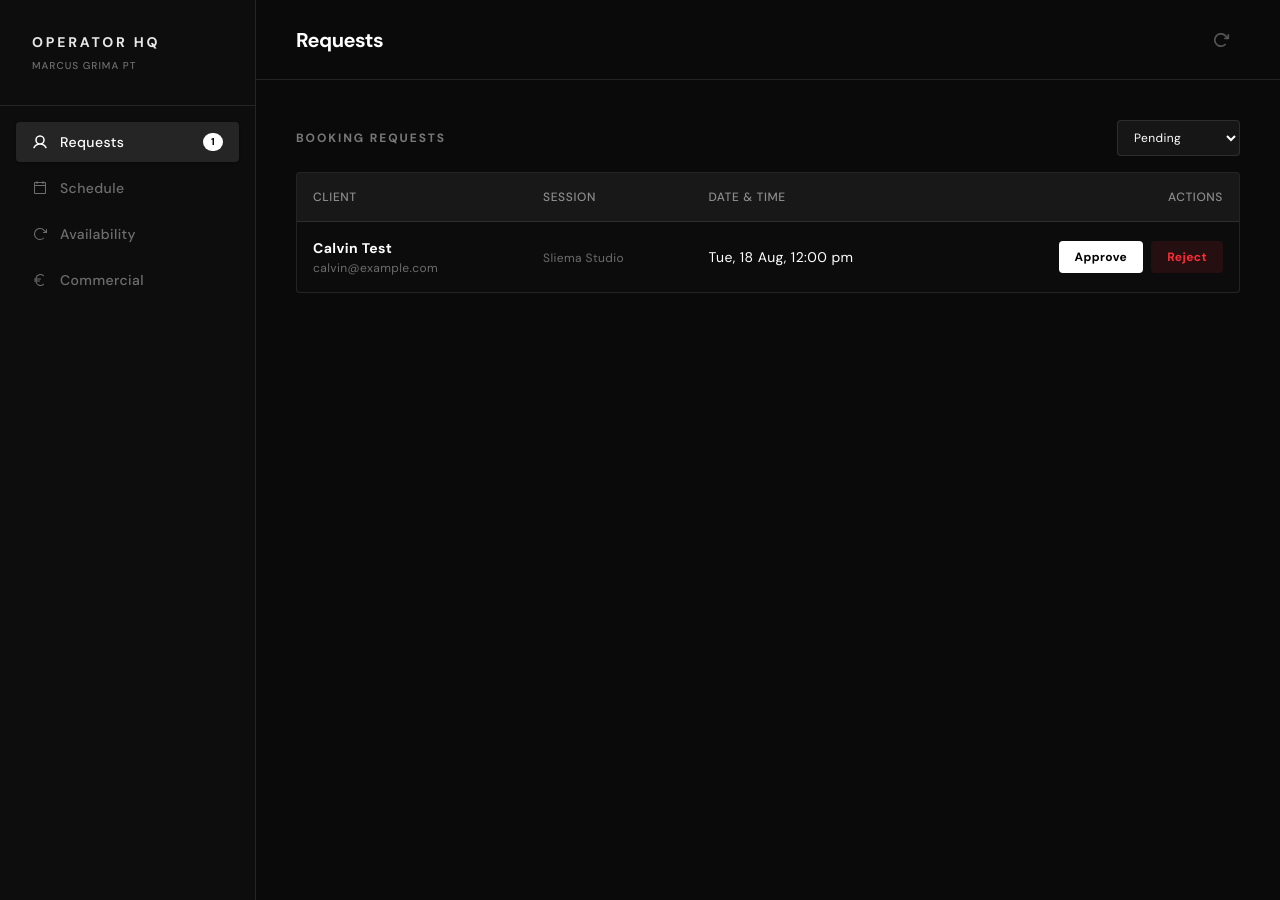
it: MarcusSessionsHQ weekly schedule › keeps a complete range label when the selected week crosses years
Click the button "Schedule" at [128, 188], box [16,168,239,208]
(page scrolled)
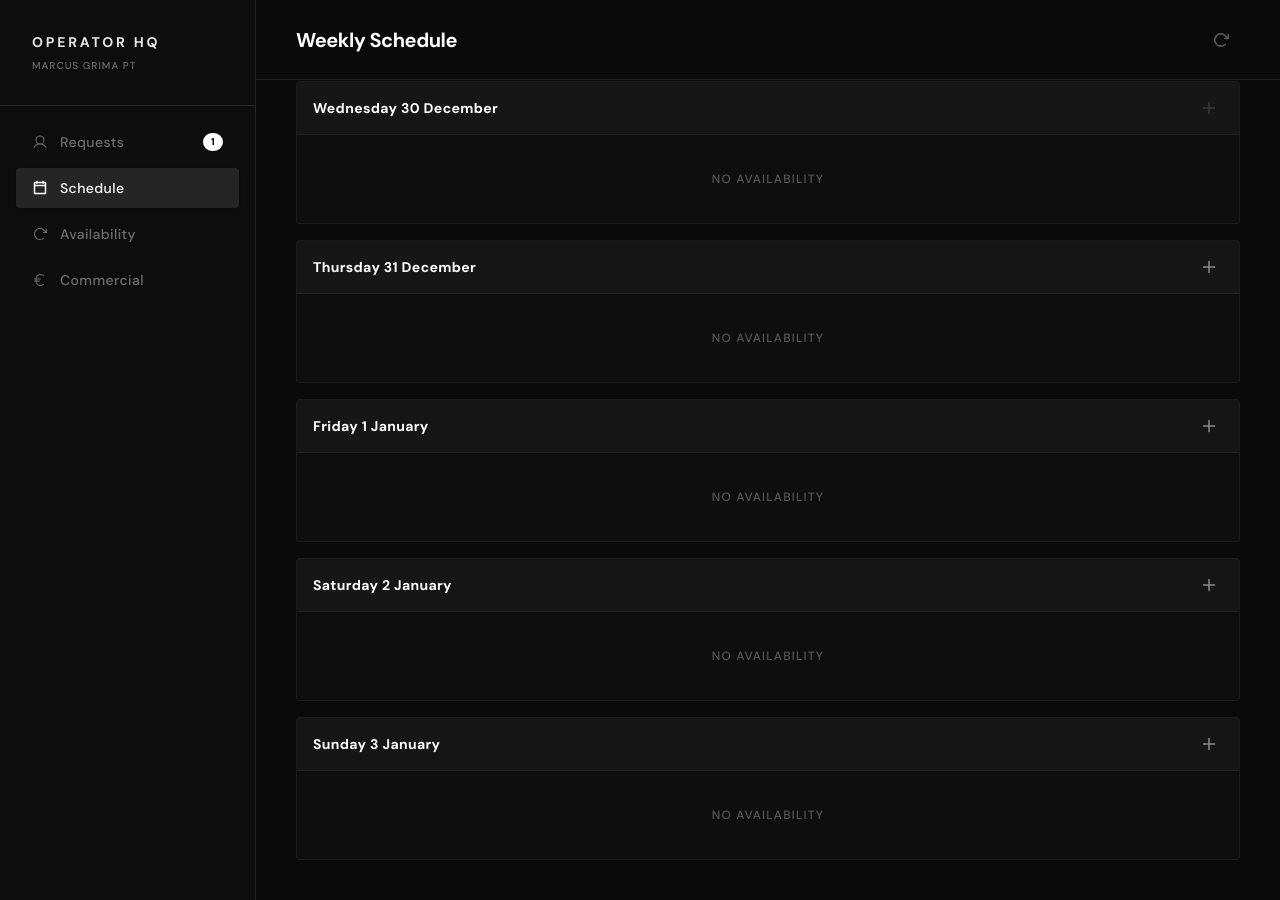
Check: the element with test id "day-section-2027-01-03" is shown, box [296,717,1240,860]
